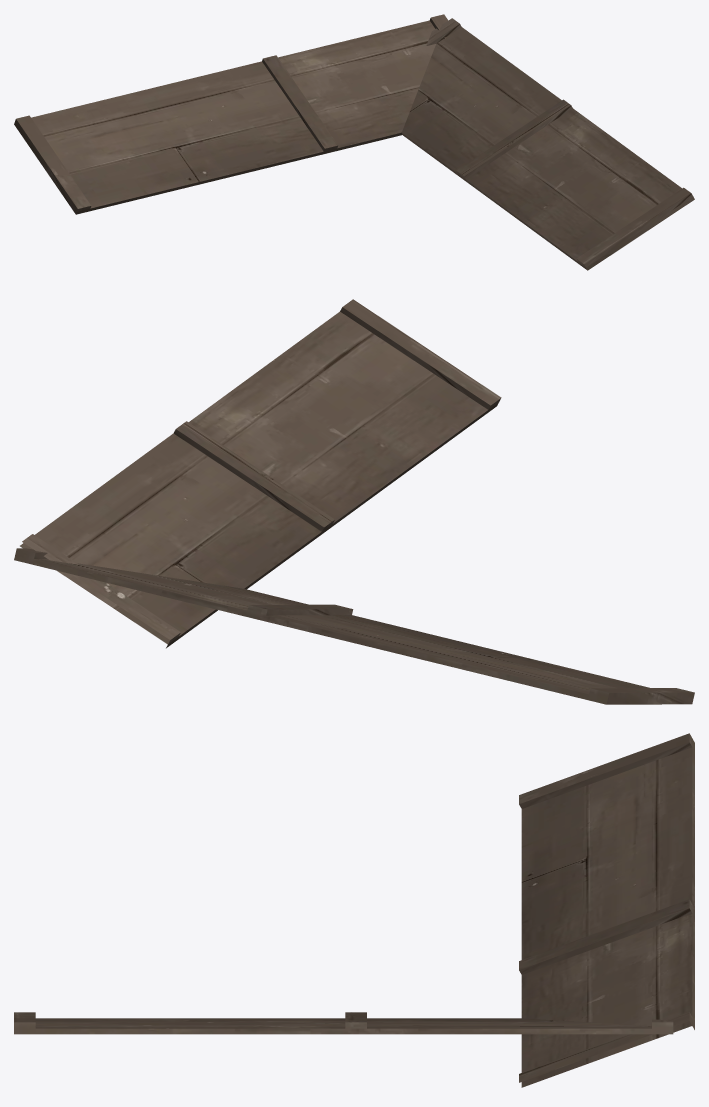
3 renders of one model, top to bottom at view 1: azimuth 30°, elevation 25°; view 2: azimuth 150°, elevation 25°; view 3: azimuth 270°, elevation 25°, orthographic. The views are drawn at different scales.
Visible parts, largest first — view 1: body0_model0_lod0_mesh0; view 2: body0_model0_lod0_mesh0; view 3: body0_model0_lod0_mesh0.
Boxes of the visible parts, x1,y1,x2,y2 form: body0_model0_lod0_mesh0: [14, 14, 694, 270]; body0_model0_lod0_mesh0: [14, 299, 694, 704]; body0_model0_lod0_mesh0: [14, 733, 694, 1087].
Bounding box in the file's own units: 256 × 29.38 × 253.
1 material, 1 textured.
